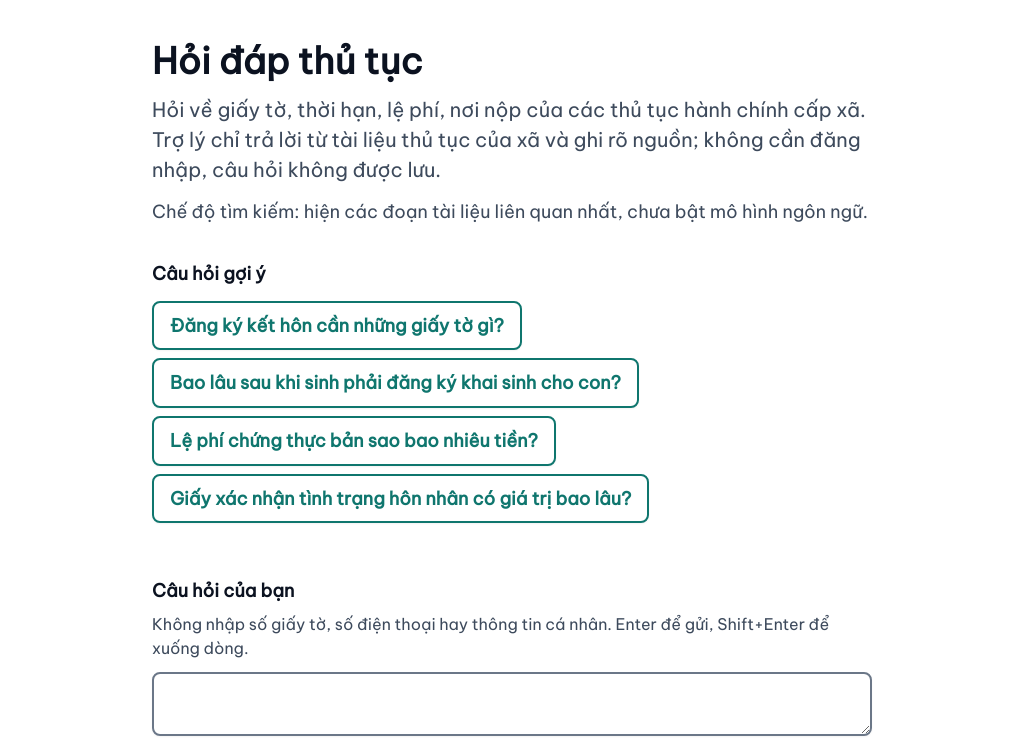
Scenario: trang hỏi đáp › chế độ chỉ tìm kiếm: nói rõ, hiện tài liệu liên quan thay cho câu trả lời
Expected: the text "Chế độ tìm kiếm" is shown, [152,200,868,223]
Type "kết hôn" into the text box labelled "Câu hỏi của bạn" at (512, 704), box [152,672,872,736]
Then press Enter
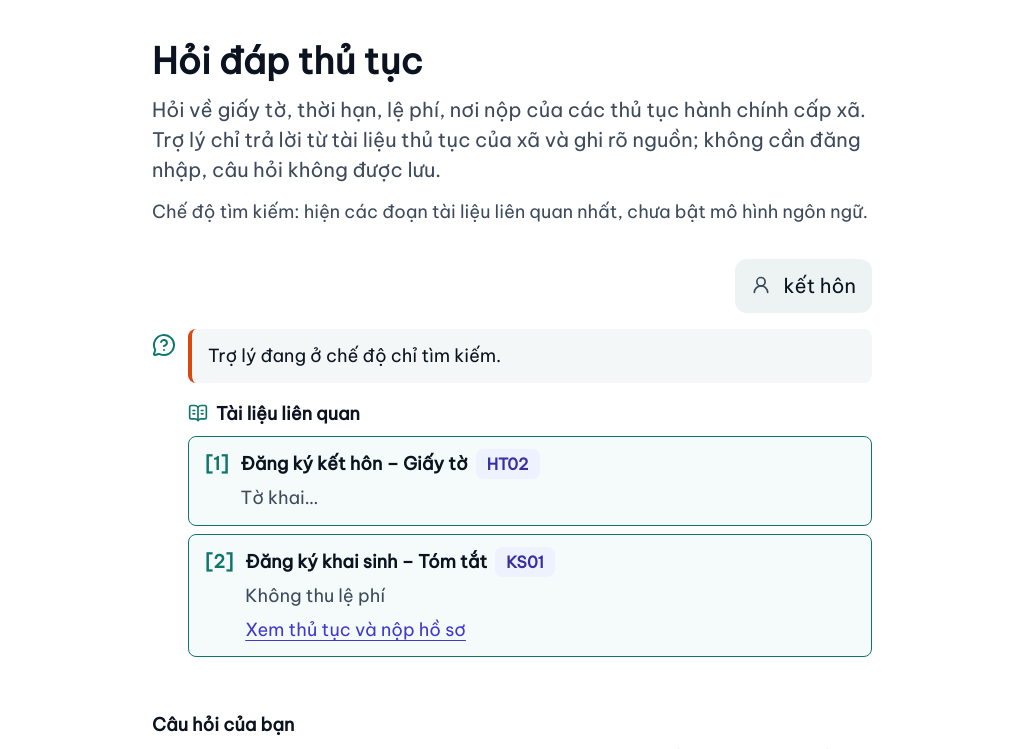
Expected: the text "Trợ lý đang ở chế độ chỉ tìm kiếm." is shown, [188,329,872,383]
Expected: the heading "Tài liệu liên quan" is shown, [188,402,360,425]
